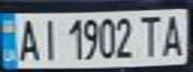0: (100, 15, 118, 61)
1: (63, 15, 84, 61)
2: (115, 13, 139, 60)
9: (81, 15, 100, 61)
A: (12, 15, 42, 62), (157, 11, 187, 58)
I: (36, 15, 60, 61)
T: (136, 12, 163, 59)
